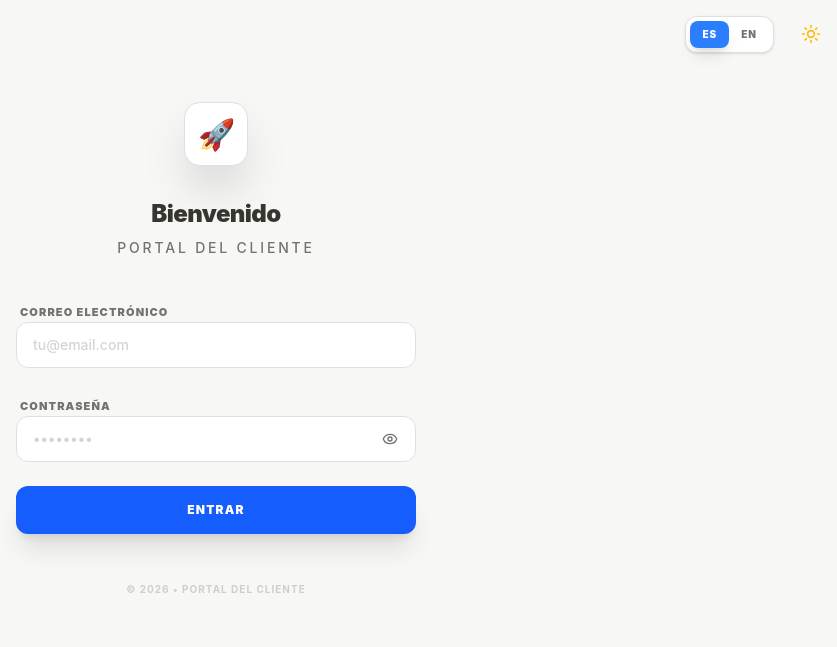
Test: Login Component › shows error on invalid credentials
Type "user@example.com" into the field with placeholder "tu@email.com" at (216, 344), box [16,322,416,368]
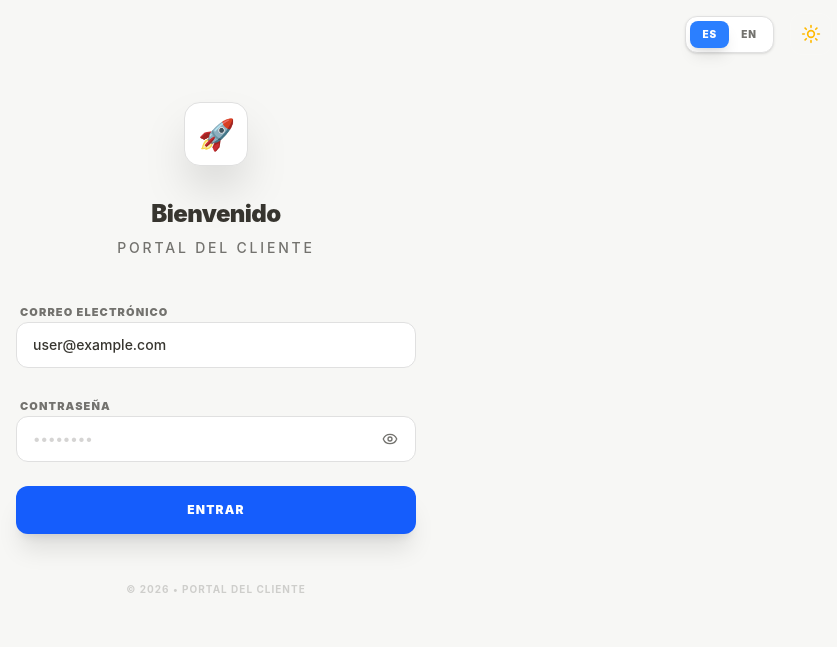
Type "wrong" into the password field with placeholder "••••••••" at (216, 438), box [16,416,416,462]
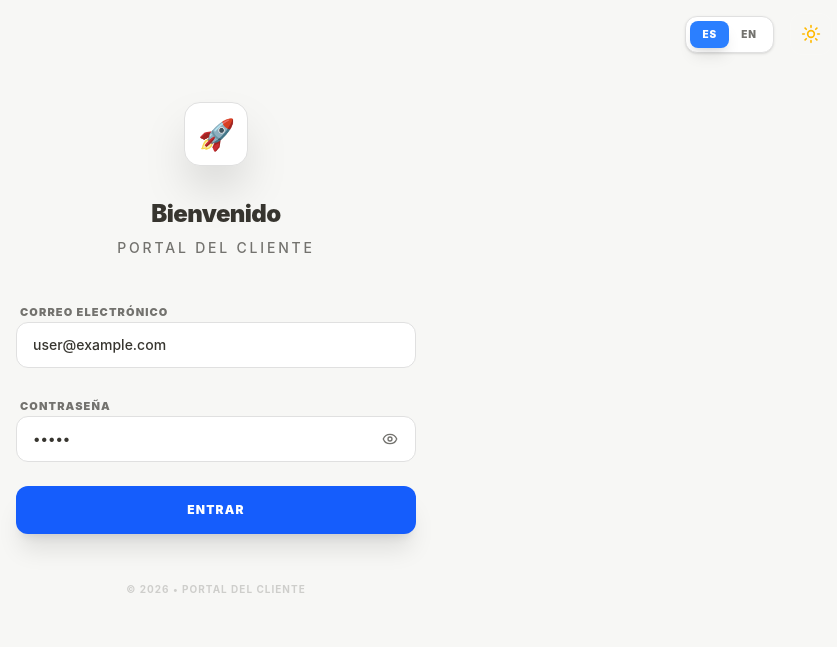
Click the button "Entrar" at (216, 510), box [16,486,416,534]
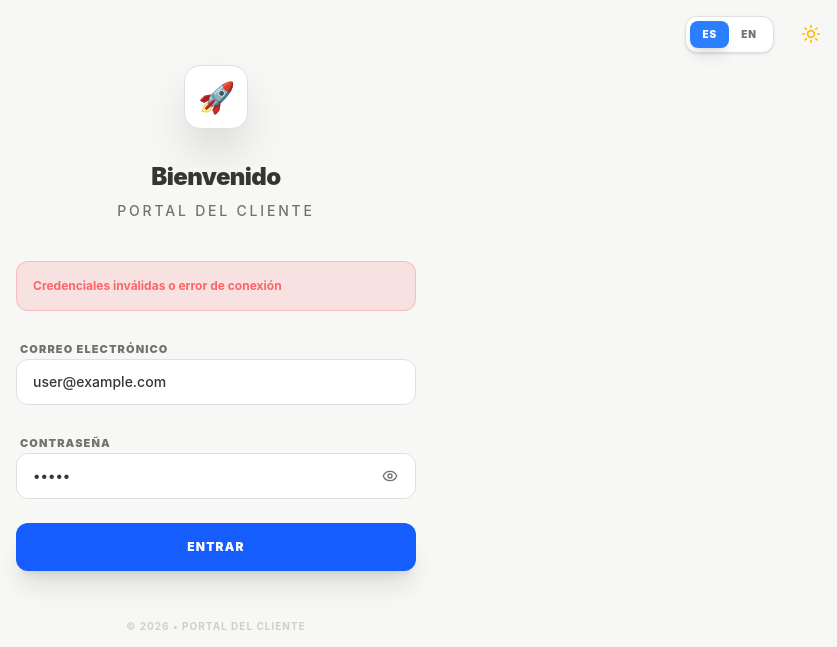
Expected: the text "Credenciales inválidas o error de conexión" is shown, [16,260,416,310]
